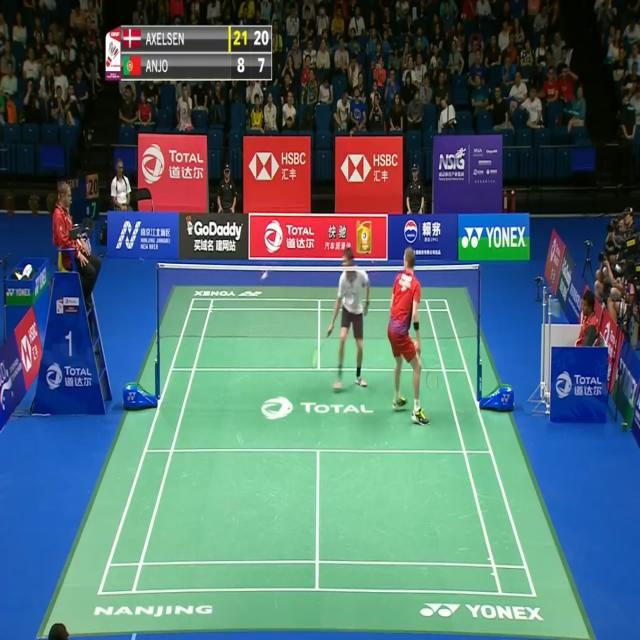Player1: (383, 237, 442, 439)
Player2: (309, 238, 373, 408)
